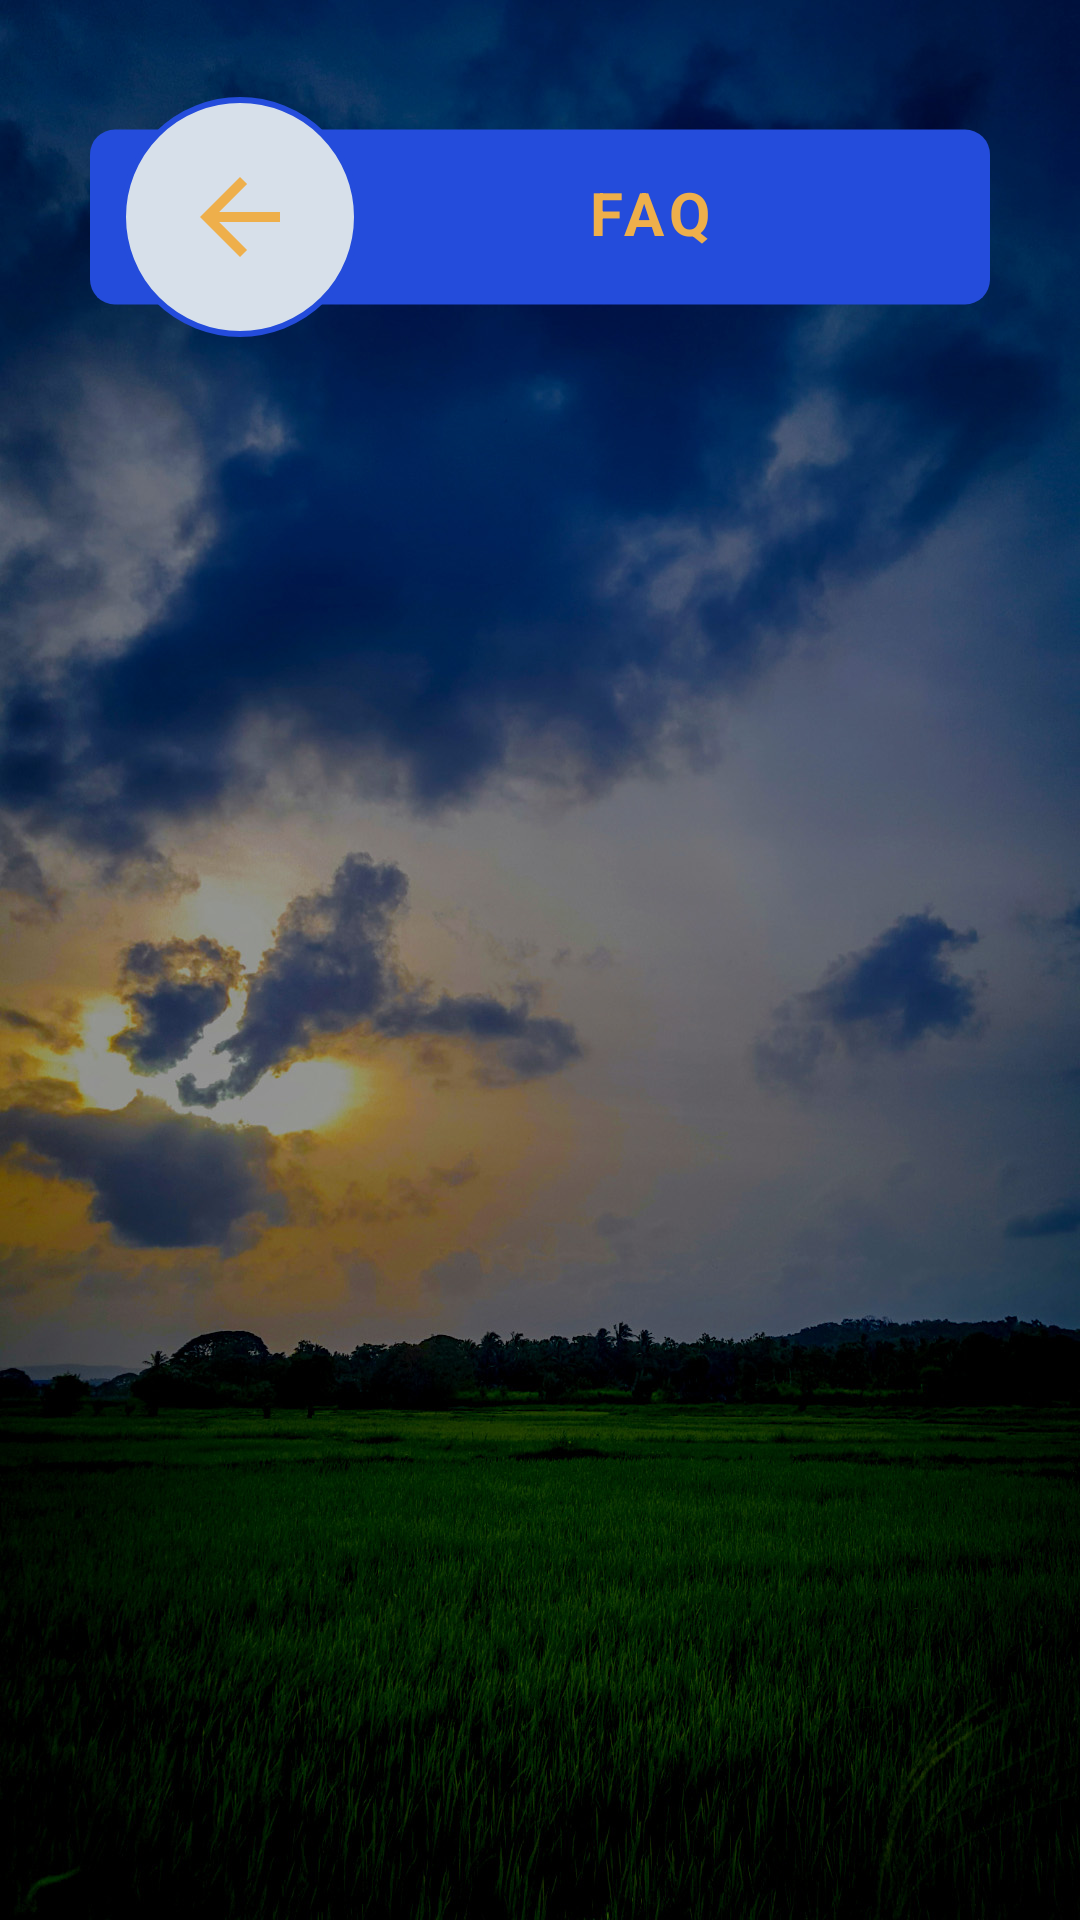

Icons on this 1080 × 1920 Android screen, each with its box as (x1, y1, x2, y2):
arrow back: (200, 177, 280, 257)
